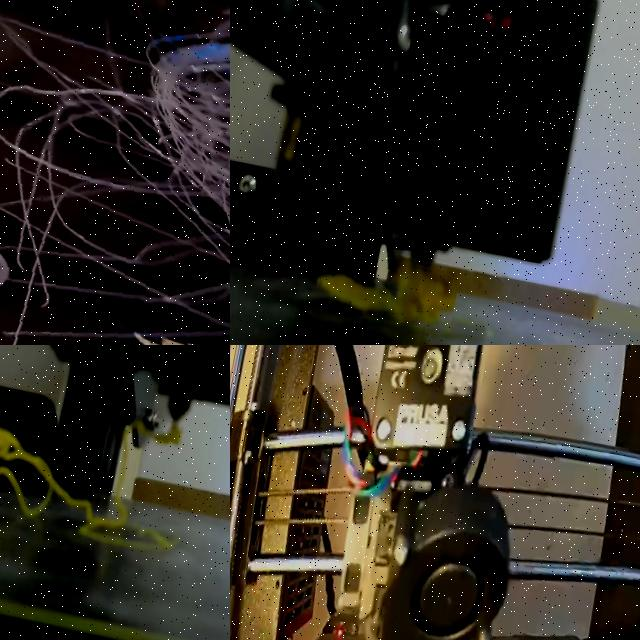spaghetti: (0, 0, 230, 345), (0, 425, 172, 549), (319, 264, 456, 323), (130, 420, 180, 444)
